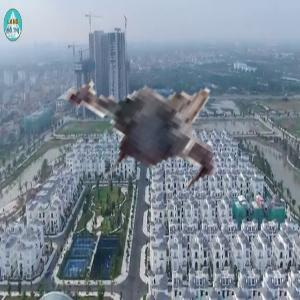drone: (49, 33, 257, 241)
